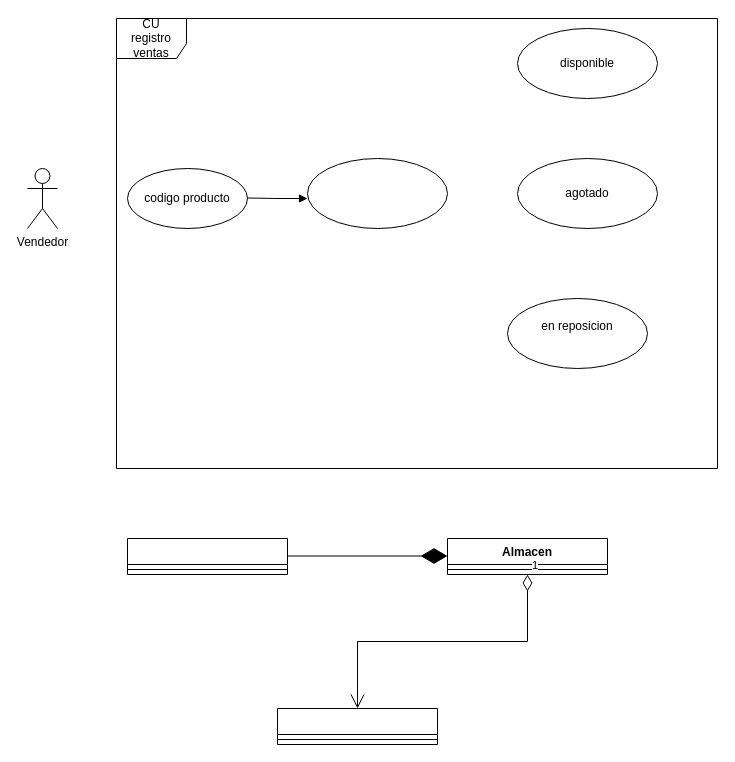
The diagram is 735 pixels wide and 762 high, and some of its shapes have lost their labels. Here are the shapes that lost their labels. From the top down, the box of each, then its label:
(306, 158, 448, 228): cantidad ingresada
(126, 538, 288, 574): Producto
(276, 708, 438, 744): Tienda
